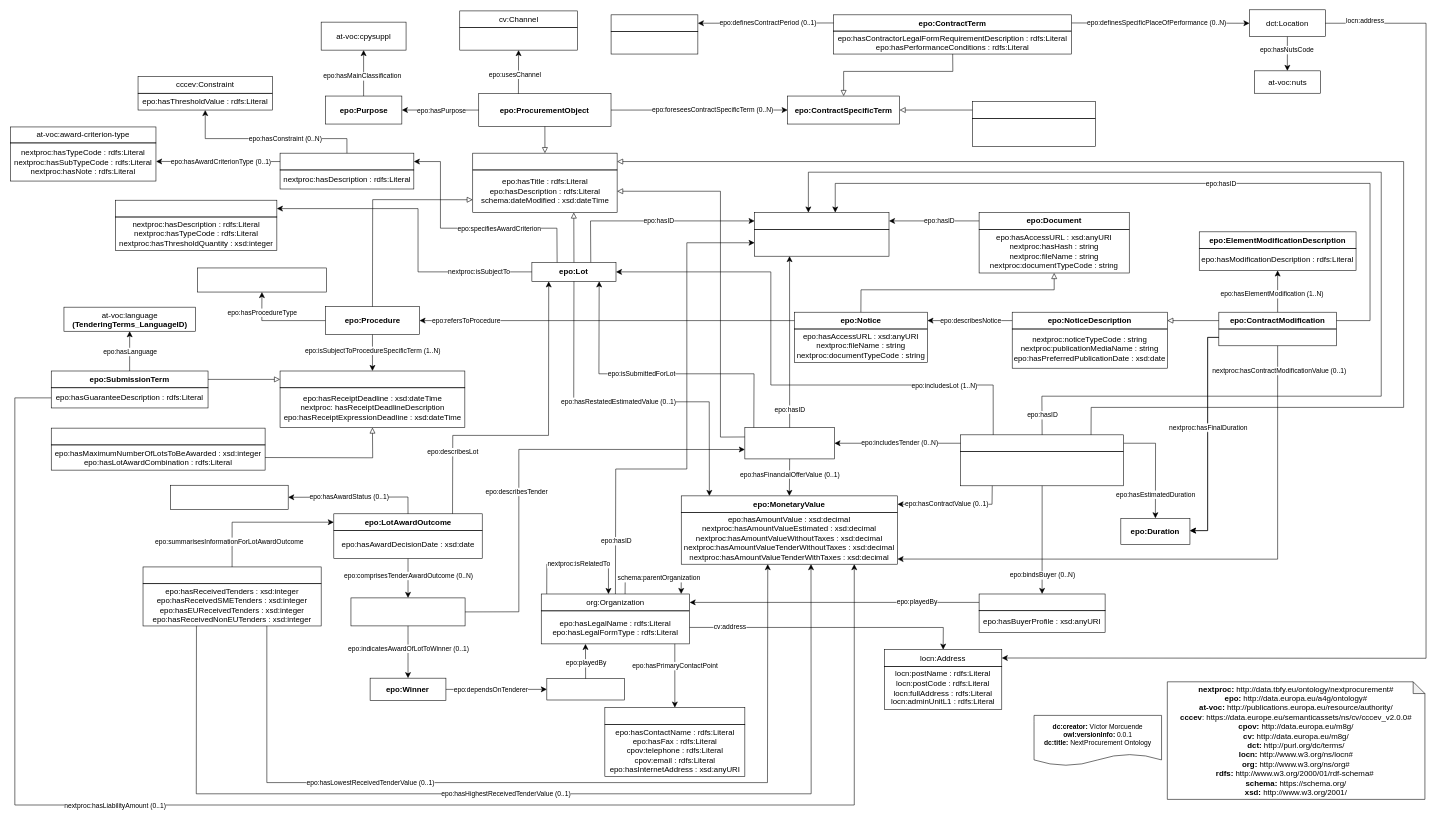
Some shapes in this 1441 by 820 pixel diagram are drawn without their labels. The shapes that lost their labels are listed below. From the top down, each one's box as (x1, y1, x2, y2) in pixels, then its label:
(459, 27, 577, 50): epo:hasEndpoint : xsd:anyURI
(611, 14, 698, 32): epo:Period
(611, 31, 698, 54): epo:hasEnd : xsd:date
(972, 101, 1096, 118): epo:SubcontractTerm
(972, 118, 1096, 146): epo:hasDescription : rdfs:Literal nextproc:hasRate : xsd:integer
(279, 153, 414, 170): epo:AwardCriterion
(472, 153, 617, 170): epo:ProcurementElement
(115, 200, 277, 217): epo:EvaluationTerm
(754, 212, 889, 229): epo:Identifier
(754, 229, 889, 256): epo:hasIdentifierValue : rdfs:Literal
(197, 267, 326, 292): at-voc:procurement-procedure-type
(1218, 328, 1336, 346): dct:identifier : string
(279, 370, 465, 388): epo:ProcedureSpecificTerm
(51, 428, 265, 445): epo:ProcedureTerm
(744, 427, 834, 459): epo:Tender
(960, 434, 1124, 452): epo:Contract
(960, 451, 1124, 486): epo:hasEntryIntoForceDate : xsd:date epo:hasContractConclusionDate : xsd date
(170, 485, 288, 509): at-voc:winner-selection-status
(142, 566, 321, 584): epo:SubmissionStatisticalInformation
(350, 597, 465, 626): epo:TenderAwardOutcome
(979, 593, 1105, 611): epo:Buyer
(546, 678, 624, 700): epo:Tenderer
(604, 707, 745, 724): cpov:ContactPoint
